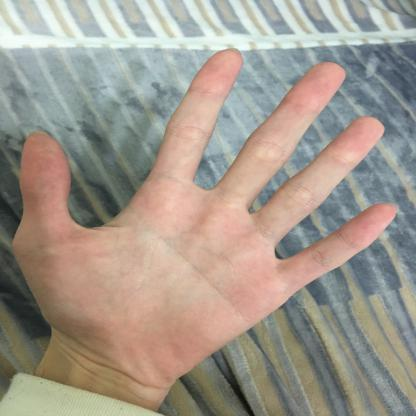bare_hand: (1, 40, 414, 406)
